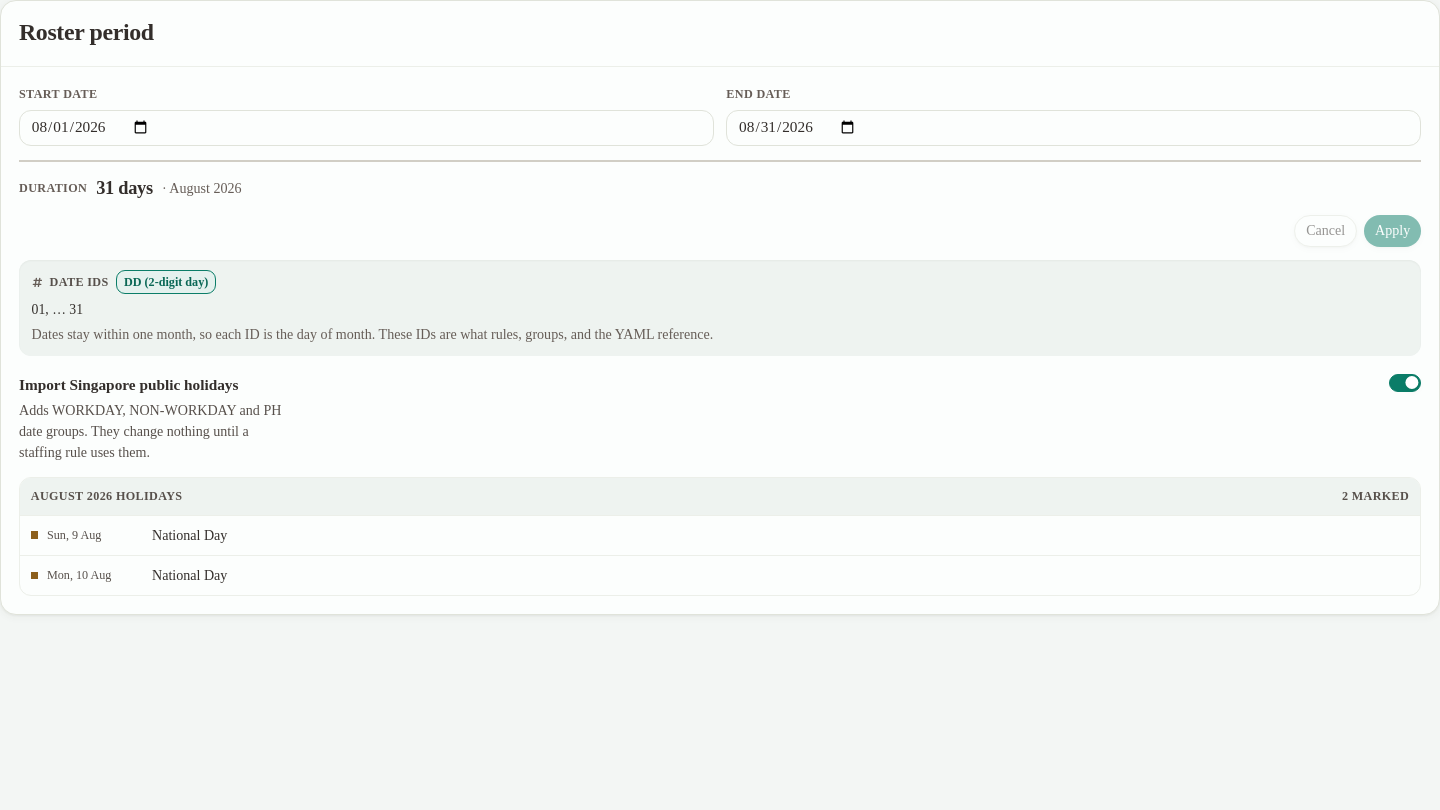
Test: RosterPeriodCard — draft with Apply and Cancel (v1 parity) › warns how many requests and leave days the new range removes, before Apply
In the date field with test id "range-end": {"x": 1074, "y": 128} [726,110,1421,146], type "2026-08-20"
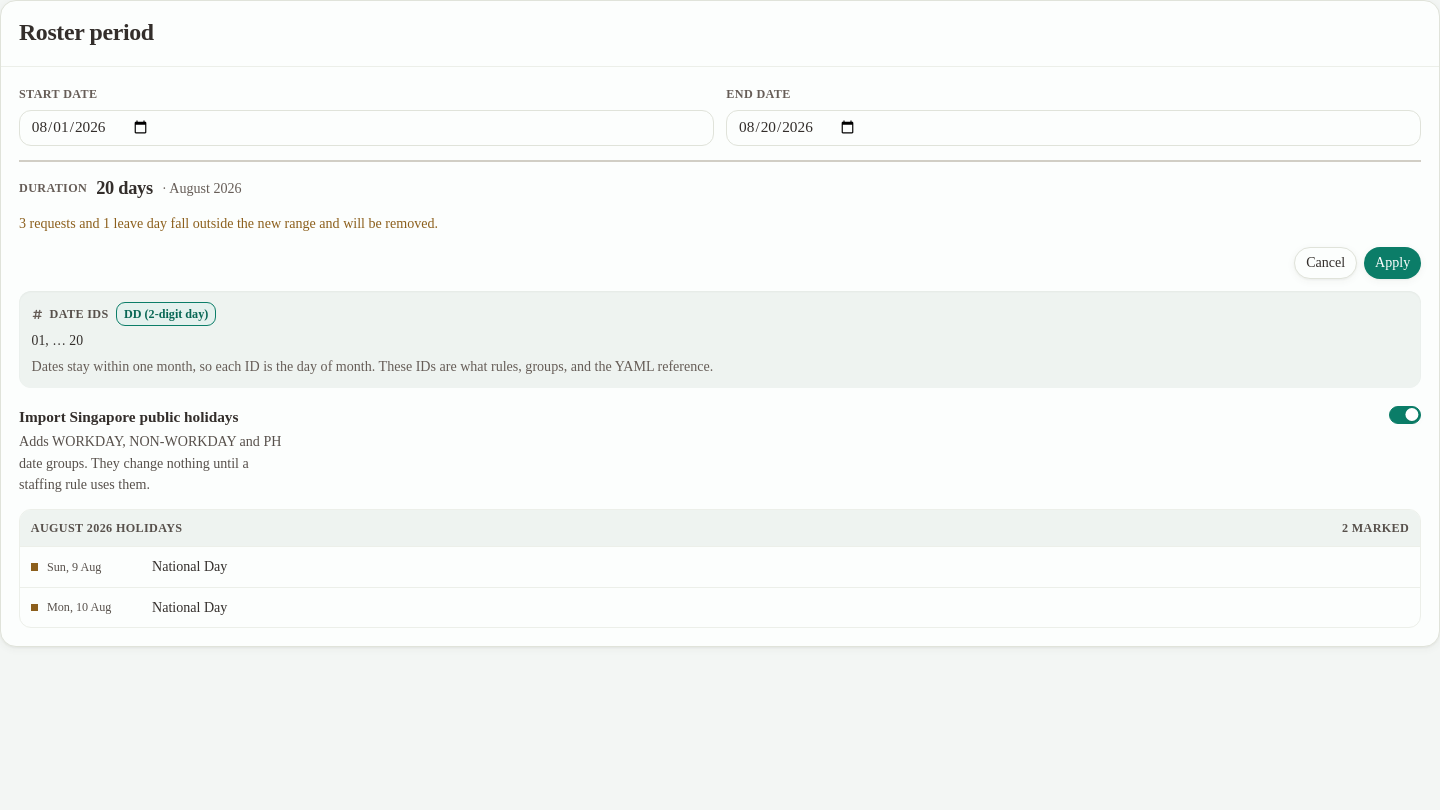
Expected: the text with test id "range-removal-warning" reads "3 requests and 1 leave day fall outside the new range and will be removed.", [19,215,438,231]
